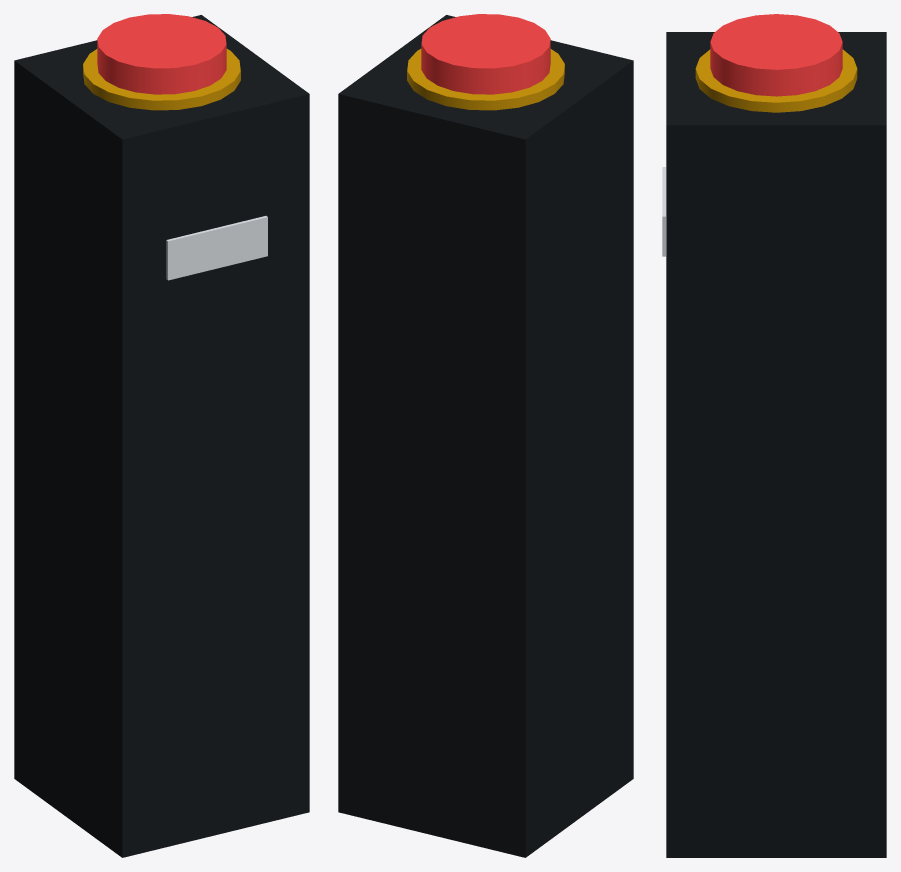
3 renders of one model, left to right at view 1: azimuth 30°, elevation 25°; view 2: azimuth 150°, elevation 25°; view 3: azimuth 270°, elevation 25°, orthographic. The views are drawn at different scales.
Parts seen in each view (by area): view 1: pedestal, button, label:estop, button:base; view 2: pedestal, button, button:base; view 3: pedestal, button, button:base.
Part boxes in pixels (x1=…): pedestal: x1=14, y1=15, x2=309, y2=857; button: x1=97, y1=14, x2=226, y2=94; label:estop: x1=166, y1=216, x2=267, y2=280; button:base: x1=83, y1=49, x2=240, y2=110; pedestal: x1=338, y1=15, x2=633, y2=857; button: x1=421, y1=14, x2=550, y2=94; button:base: x1=407, y1=49, x2=564, y2=110; pedestal: x1=666, y1=32, x2=886, y2=857; button: x1=710, y1=14, x2=842, y2=96; button:base: x1=695, y1=49, x2=857, y2=112.
Bounding box in the file's own units: 0.3 × 1.16 × 0.3055.
